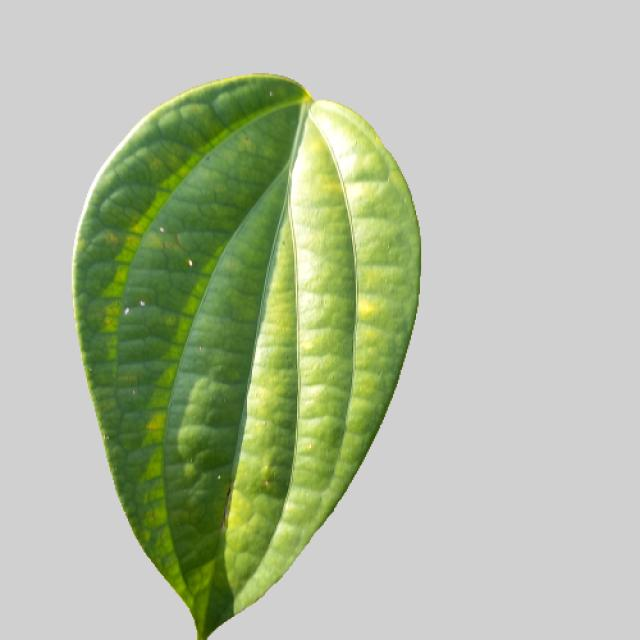healthy: (61, 68, 426, 639)
